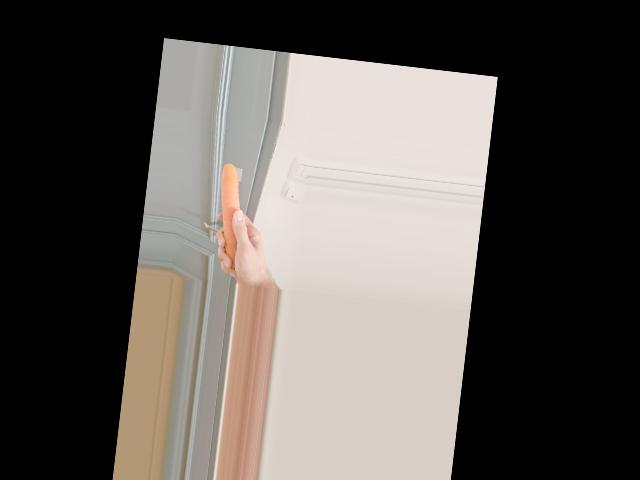carrot: (211, 163, 250, 270)
